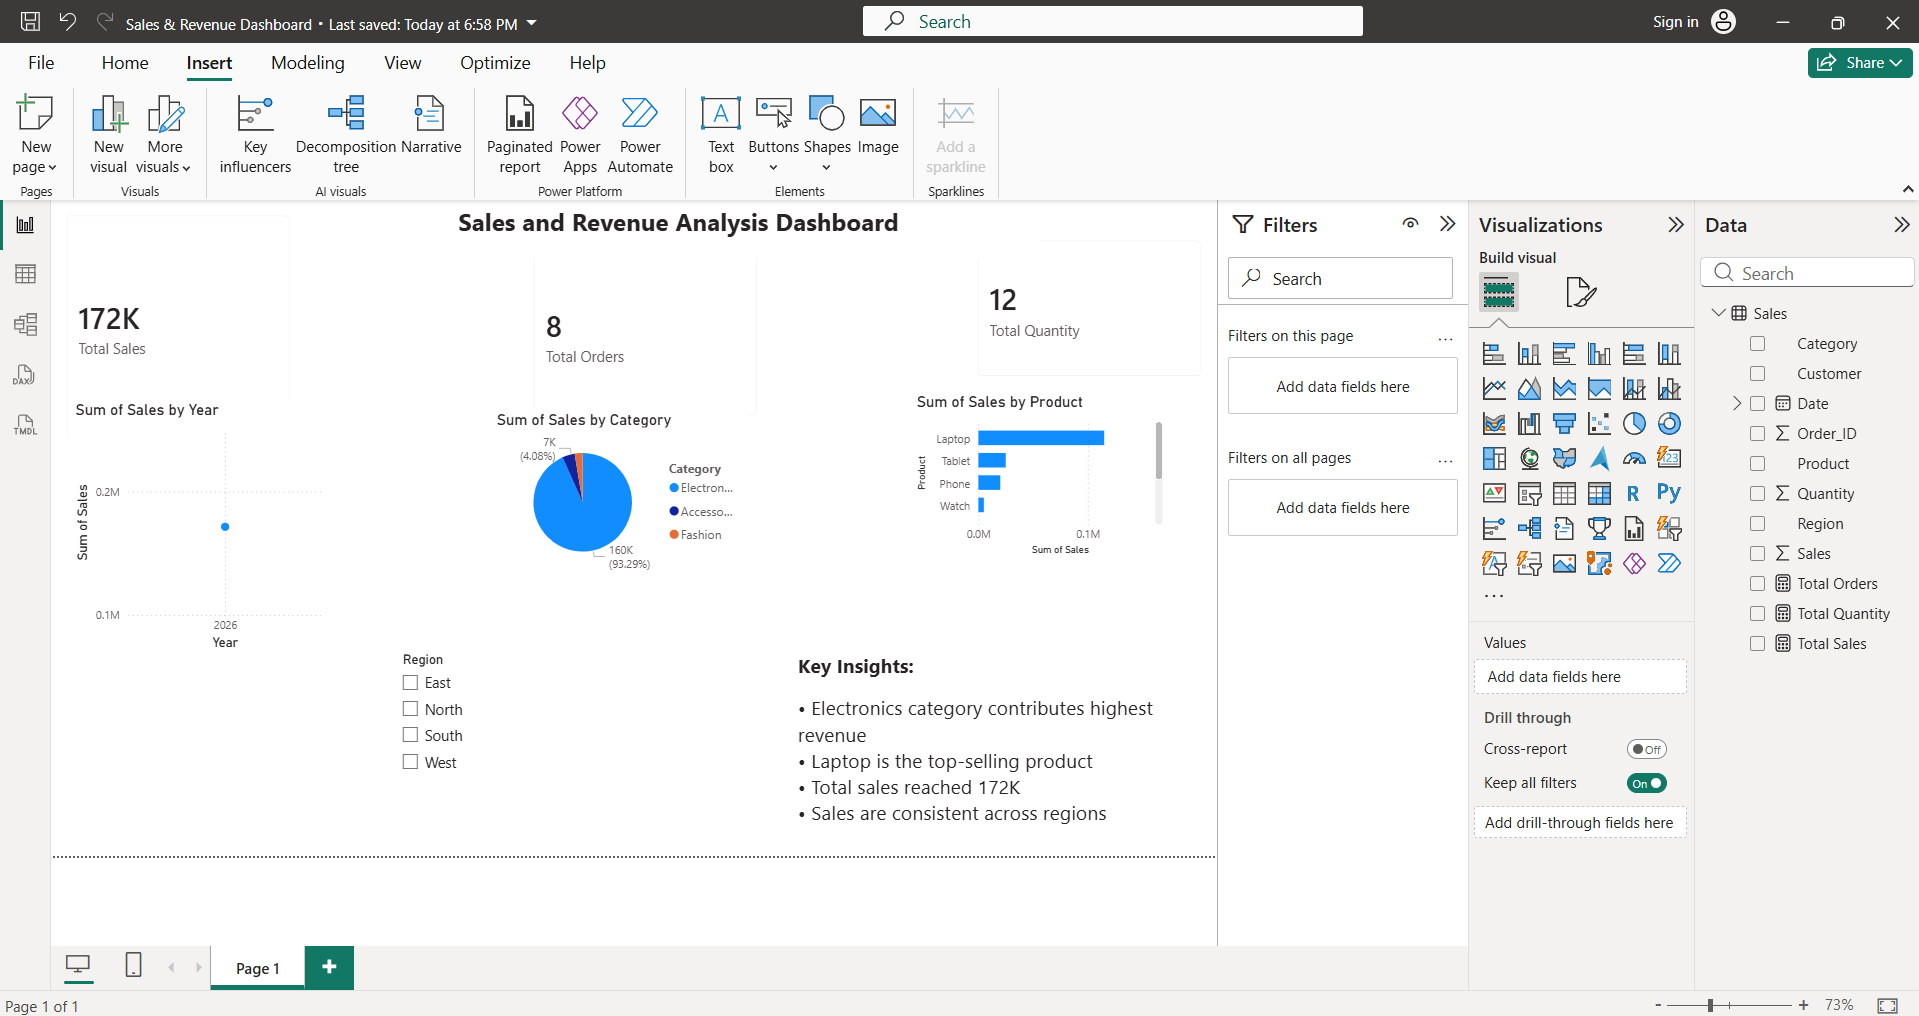

Layout of this report page (visuals, bound fields, positions):
{"tool":"powerbi","page":{"name":"Page 1","canvas":[1280,720],"ordinal":0},"visuals":[{"type":"cardVisual","fields":{"Data":["Sales.Total Sales"]},"box":[0,0,279.9,279.9],"z":0},{"type":"cardVisual","fields":{"Data":["Sales.Total Orders"]},"box":[513.2,42.5,279.9,211.3],"z":1},{"type":"cardVisual","fields":{"Data":["Sales.Total Quantity","Sales.Total Quantity"]},"box":[1000.3,27.4,279.9,183.9],"z":2},{"type":"lineChart","fields":{"Category":["Sales.Date.Variation.Date Hierarchy.Year","Sales.Date.Variation.Date Hierarchy.Quarter","Sales.Date.Variation.Date Hierarchy.Month","Sales.Date.Variation.Date Hierarchy.Day"],"Y":["Sum(Sales.Sales)"]},"box":[22,219.6,279.9,279.9],"z":3},{"type":"barChart","fields":{"Y":["Sum(Sales.Sales)"],"Category":["Sales.Product"]},"box":[945.5,211.3,279.9,183.9],"z":4},{"type":"pieChart","fields":{"Y":["Sum(Sales.Sales)"],"Category":["Sales.Category"]},"box":[484.4,230.5,279.9,183.9],"z":5},{"type":"slicer","fields":{"Values":["Sales.Region"]},"box":[373.2,491.3,279.9,201.7],"z":6},{"type":"textbox","box":[22,518.7,240.1,74.1],"z":7},{"type":"textbox","box":[292.3,0,793.1,63.1],"z":8},{"type":"textbox","box":[815.1,491.3,432.2,201.7],"z":9}]}

Visuals, with their boxes on the page's 1280x720 design canvas (x1, y1, x2, y2). These are canvas units, not pixel positions in the 1919x1016 screenshot, which may show the page scaled, cropped or inside an application window:
cardVisual - Sales.Total Sales: (0,0,280,280)
cardVisual - Sales.Total Orders: (513,42,793,254)
cardVisual - Sales.Total Quantity x Sales.Total Quantity: (1000,27,1280,211)
lineChart - Sales.Date.Variation.Date Hierarchy.Year x Sales.Date.Variation.Date Hierarchy.Quarter: (22,220,302,500)
barChart - Sum(Sales.Sales) x Sales.Product: (946,211,1225,395)
pieChart - Sum(Sales.Sales) x Sales.Category: (484,230,764,414)
slicer - Sales.Region: (373,491,653,693)
textbox: (22,519,262,593)
textbox: (292,0,1085,63)
textbox: (815,491,1247,693)
